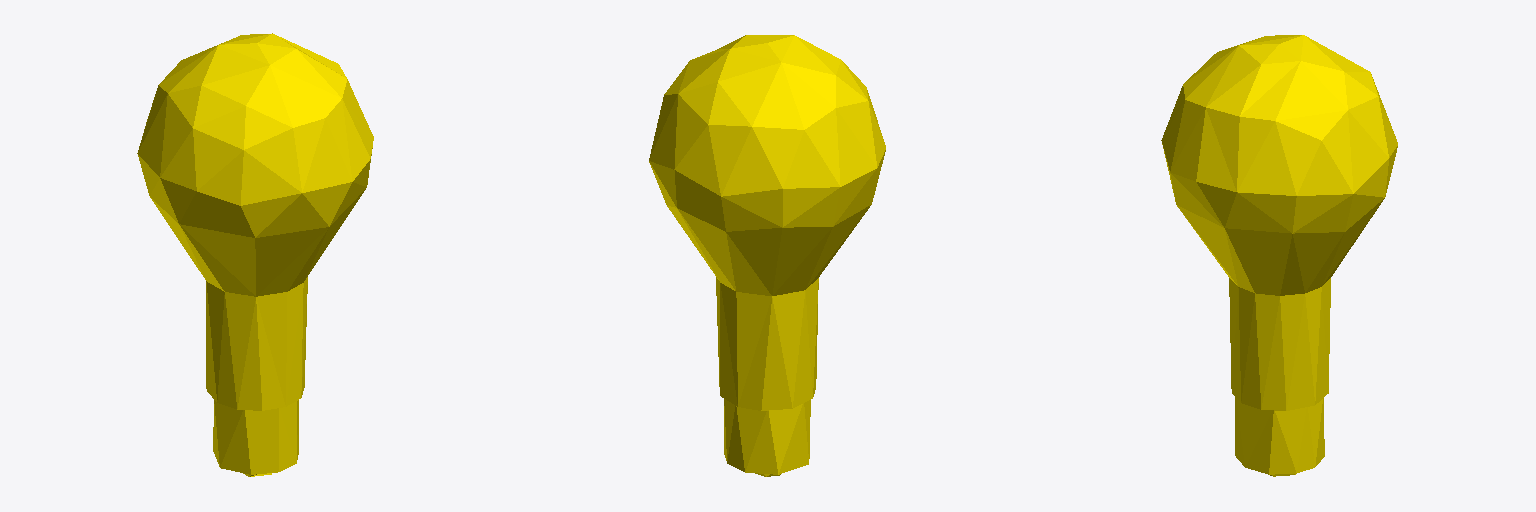
3 views of the same model, side by side, from view 1: azimuth 30°, elevation 25°; view 2: azimuth 150°, elevation 25°; view 3: azimuth 270°, elevation 25° (orthographic).
Visible parts, largest first — view 1: PointLight_Point_Pear_Straight; view 2: PointLight_Point_Pear_Straight; view 3: PointLight_Point_Pear_Straight.
Boxes of the visible parts, x1=… form: PointLight_Point_Pear_Straight: x1=137, y1=33, x2=373, y2=476; PointLight_Point_Pear_Straight: x1=649, y1=35, x2=885, y2=476; PointLight_Point_Pear_Straight: x1=1161, y1=35, x2=1397, y2=476.
Size of the model in its own units: 0.3684 by 0.729 by 0.3683.
1 materials, 1 textured.